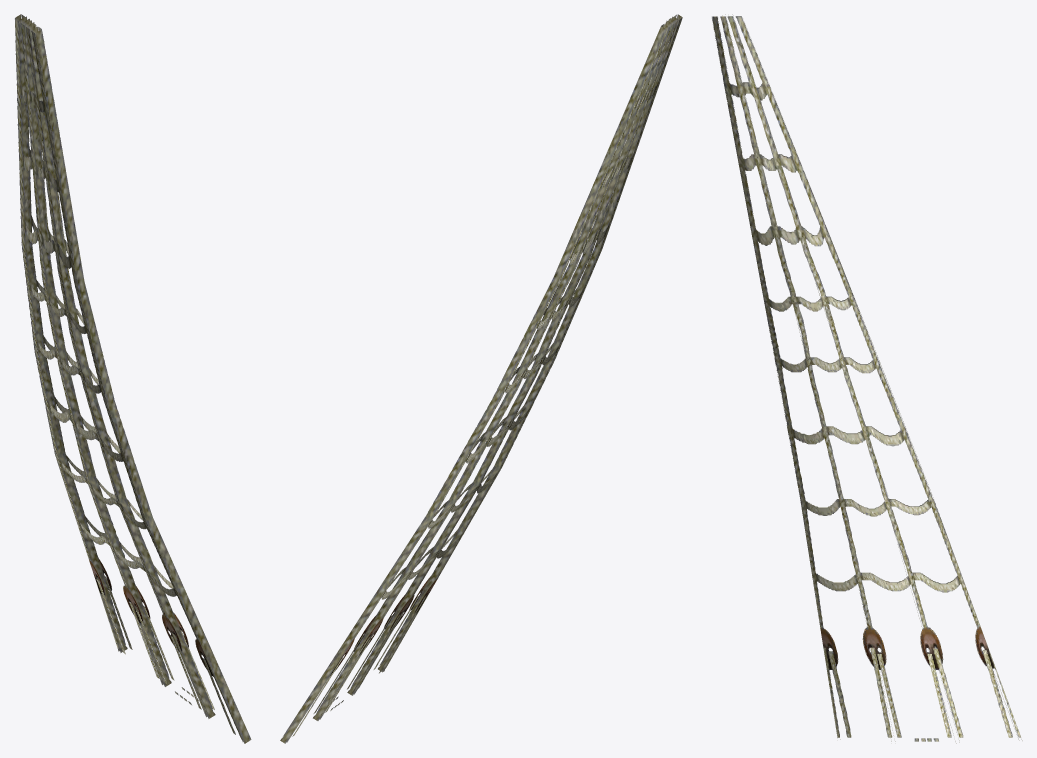
File: rome_merch_ship_shrouds.dae
3 views of the same model, side by side, from view 1: azimuth 30°, elevation 25°; view 2: azimuth 150°, elevation 25°; view 3: azimuth 270°, elevation 25° (orthographic). The views are drawn at different scales.
Visible parts, largest first — view 1: Cube_069; view 2: Cube_069; view 3: Cube_069.
Boxes of the visible parts, x1,y1,x2,y2 form: Cube_069: (15,14,251,743); Cube_069: (280,14,682,743); Cube_069: (712,14,1022,743).
Size of the model in its own units: 4.05 by 10.85 by 4.9.
